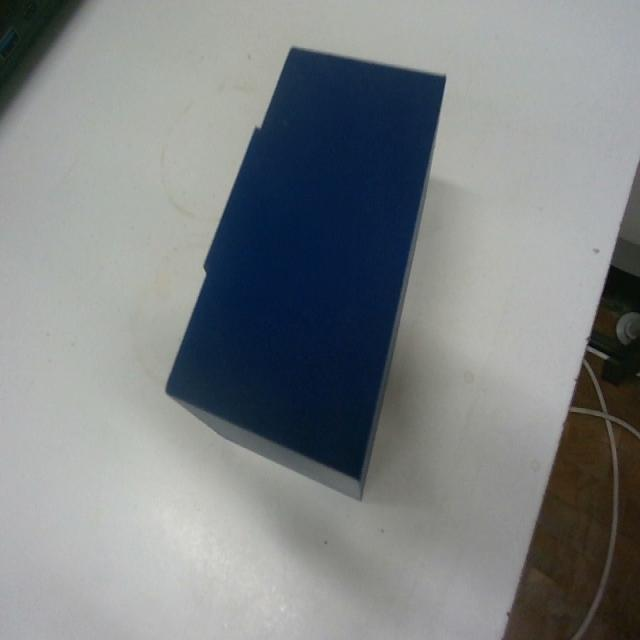Blue Cuboid: (164, 43, 447, 501)
